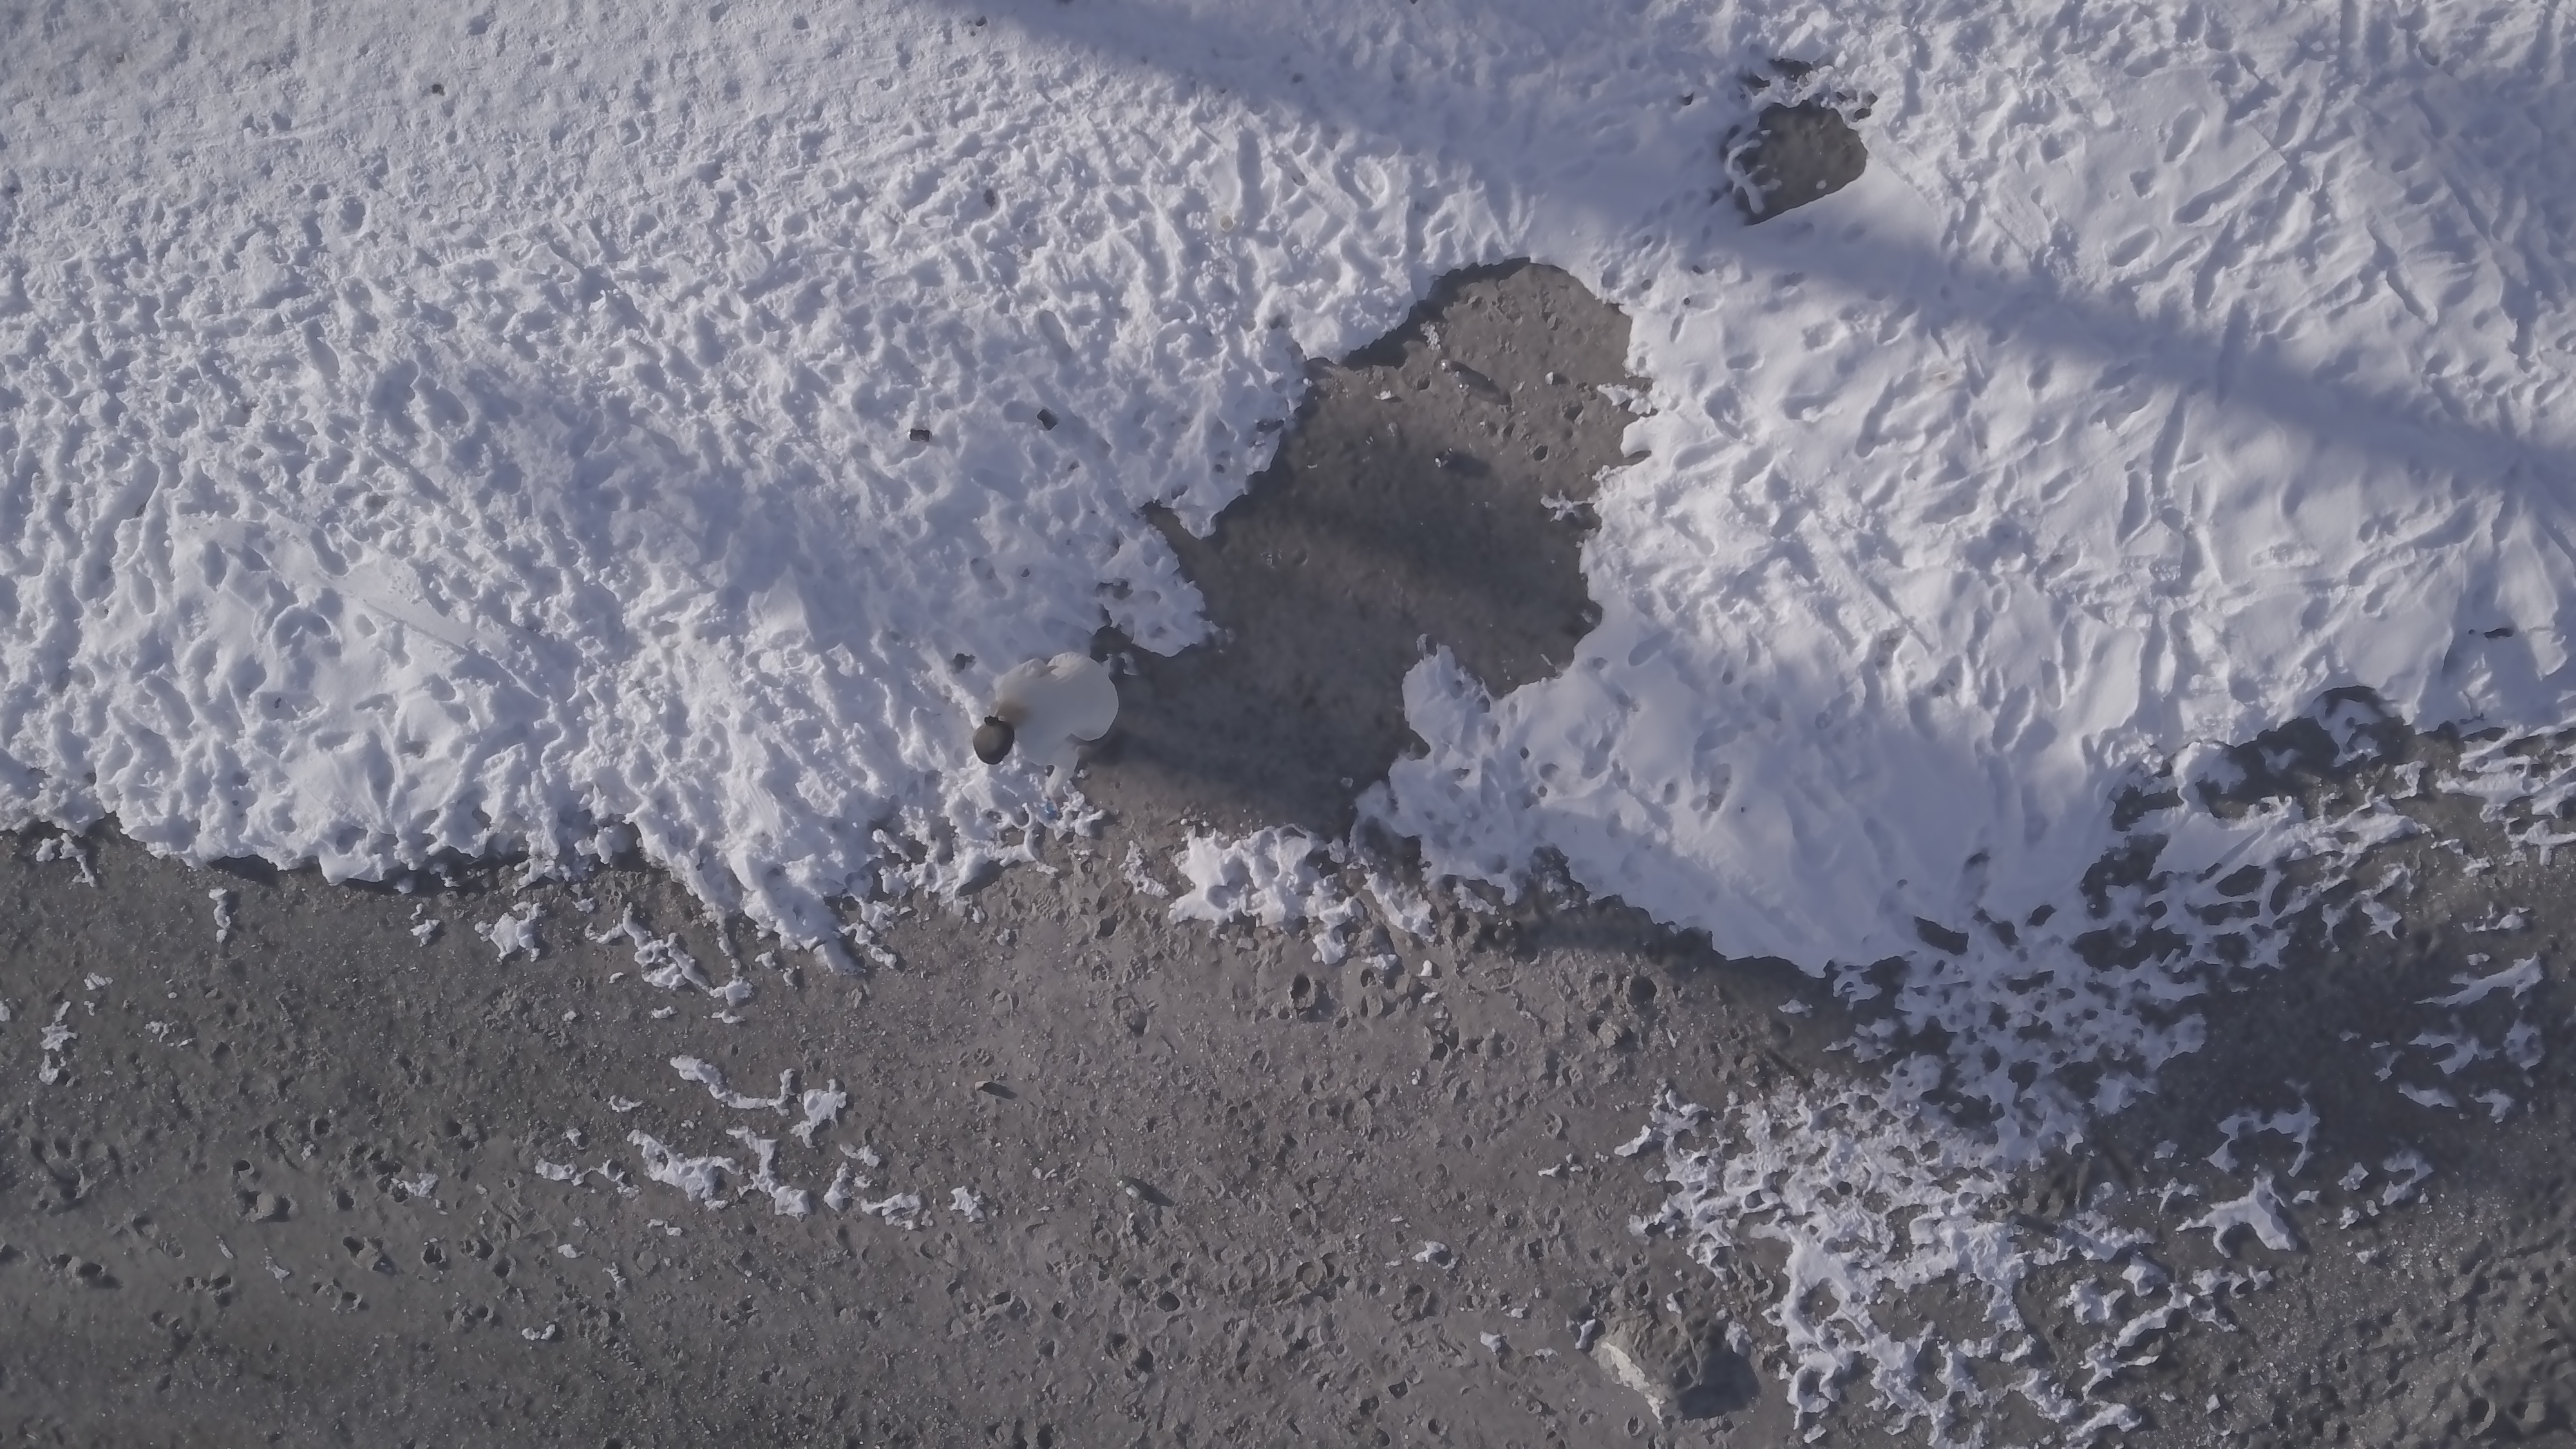Can: (1035, 409, 1062, 433), (1435, 448, 1456, 471), (906, 426, 936, 442)
Other: (1219, 216, 1238, 232)
PlasticBottle: (1111, 1171, 1146, 1207), (1438, 357, 1470, 395)
